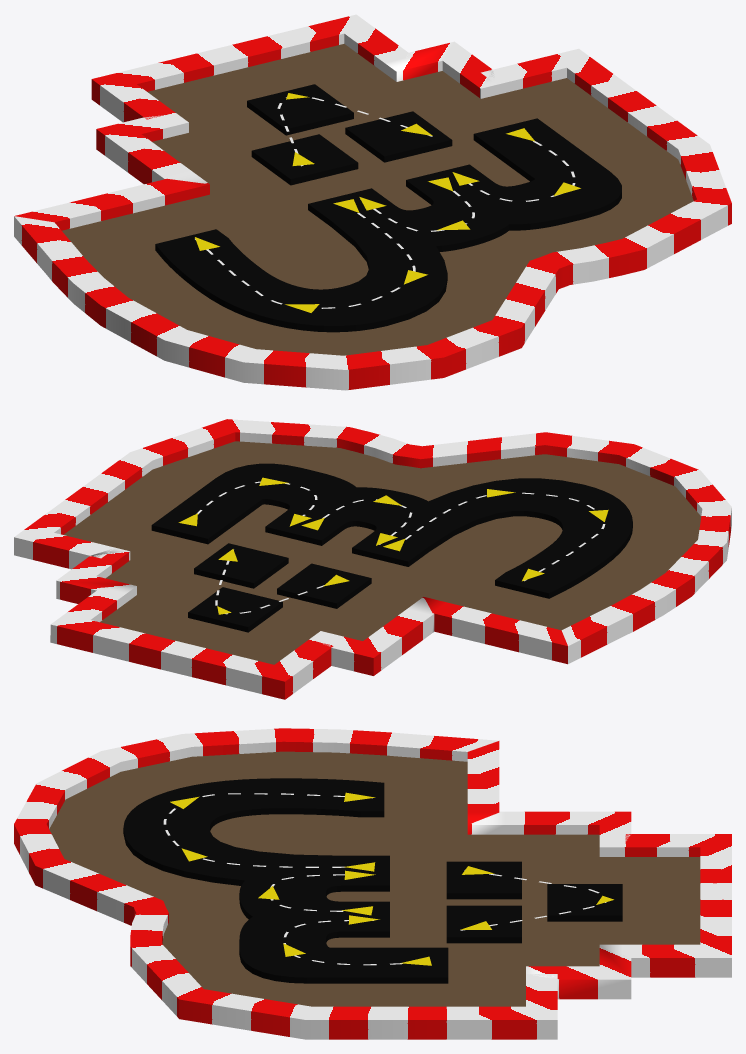
File: sheen.FBX
3 views of the same model, one above another, from view 1: azimuth 30°, elevation 25°; view 2: azimuth 150°, elevation 25°; view 3: azimuth 270°, elevation 25° (orthographic). The views are drawn at different scales.
Visible parts, largest first — view 1: shin_floor, shin_coll, shin; view 2: shin_floor, shin_coll, shin; view 3: shin_floor, shin_coll, shin.
Boxes of the visible parts, x1=… form: shin_floor: x1=62, y1=44, x2=693, y2=355; shin_coll: x1=14, y1=14, x2=731, y2=390; shin: x1=155, y1=84, x2=621, y2=332; shin_floor: x1=63, y1=441, x2=701, y2=664; shin_coll: x1=14, y1=419, x2=731, y2=699; shin: x1=151, y1=463, x2=632, y2=632; shin_floor: x1=49, y1=751, x2=700, y2=1006; shin_coll: x1=14, y1=728, x2=731, y2=1039; shin: x1=123, y1=778, x2=622, y2=983.
Size of the model in its own units: 1043 by 32.8 by 1085.
